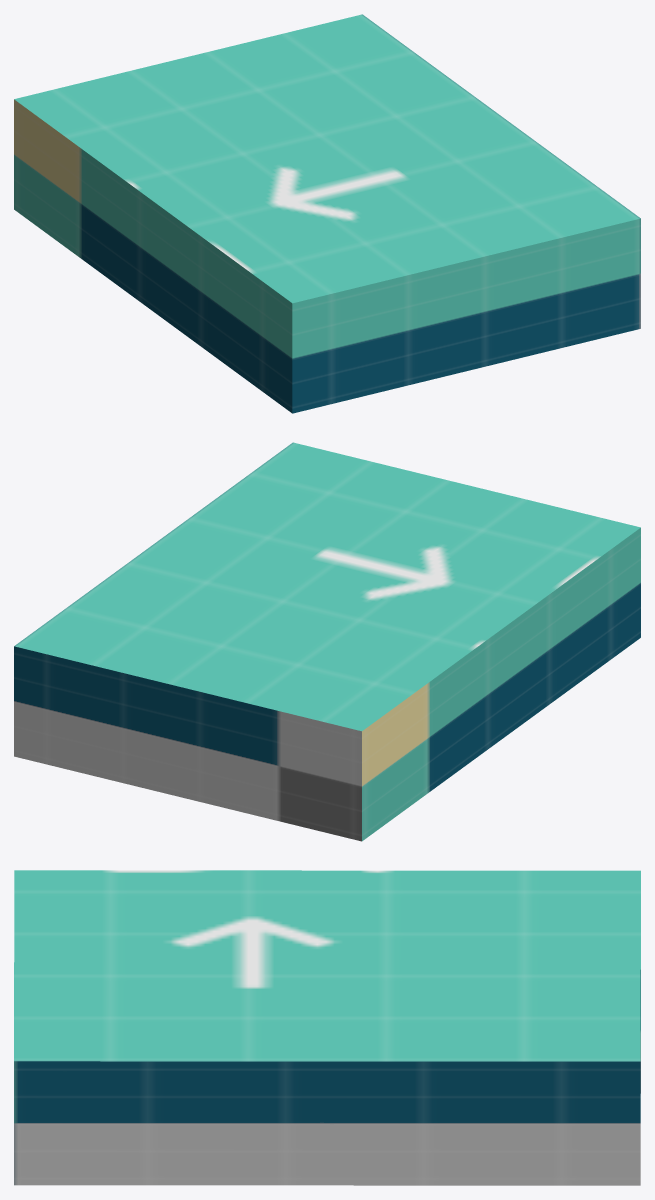
The model's file is book.glb.
The picture shows the model from 3 angles, top to bottom: view 1: azimuth 30°, elevation 25°; view 2: azimuth 150°, elevation 25°; view 3: azimuth 270°, elevation 25°; orthographic projection. The views are drawn at different scales.
Parts seen in each view (by area): view 1: col_book; view 2: col_book; view 3: col_book.
Part boxes in pixels (x1,y1,x2,y2): col_book: (14,14,640,413); col_book: (14,442,640,841); col_book: (14,870,640,1185).
Size of the model in its own units: 0.2165 by 0.0654 by 0.3.
Materials: 1 (1 with a texture image).
